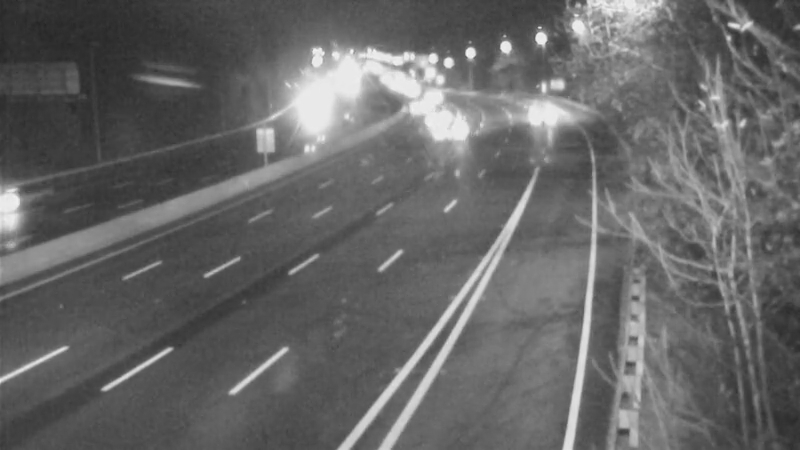vehicle: (1, 164, 69, 244), (409, 74, 459, 124), (513, 92, 563, 142), (387, 87, 437, 137), (407, 91, 457, 141), (424, 104, 474, 154)
